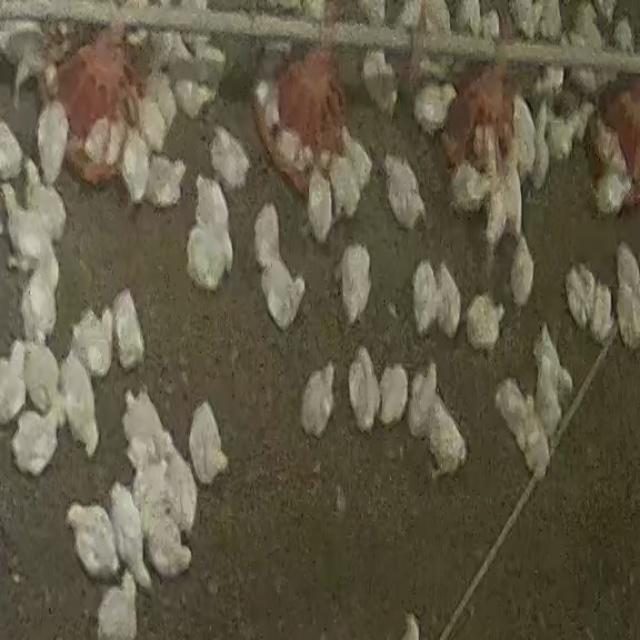chicken: (254, 205, 308, 331), (184, 176, 234, 292), (108, 481, 154, 590), (66, 501, 124, 585), (60, 349, 100, 459), (21, 151, 70, 238), (188, 400, 234, 488), (10, 405, 61, 479), (424, 398, 468, 482), (353, 42, 401, 118), (334, 239, 374, 329), (382, 154, 427, 232), (297, 360, 338, 445), (70, 305, 114, 382), (22, 341, 63, 422), (208, 125, 253, 193), (347, 347, 382, 432), (328, 148, 366, 226), (613, 241, 640, 349), (112, 291, 146, 374), (412, 76, 459, 136), (95, 577, 136, 640), (0, 338, 29, 425), (143, 152, 187, 209), (408, 362, 440, 440), (376, 358, 412, 427), (465, 293, 506, 353), (120, 131, 152, 205), (306, 167, 335, 247), (435, 262, 464, 339), (253, 201, 284, 271), (86, 112, 126, 166), (508, 236, 536, 311), (412, 260, 439, 336), (588, 282, 614, 346)
